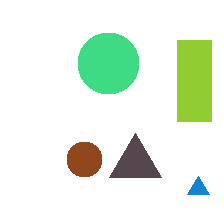circle: (78, 33, 138, 93), (67, 142, 101, 176)
rectangle: (177, 40, 211, 121)
triangle: (109, 133, 161, 177), (187, 176, 209, 194)
